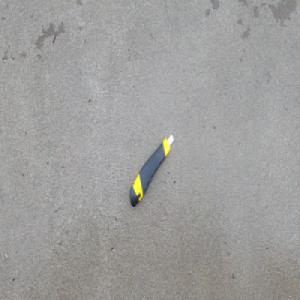Cutter: (129, 132, 175, 207)
